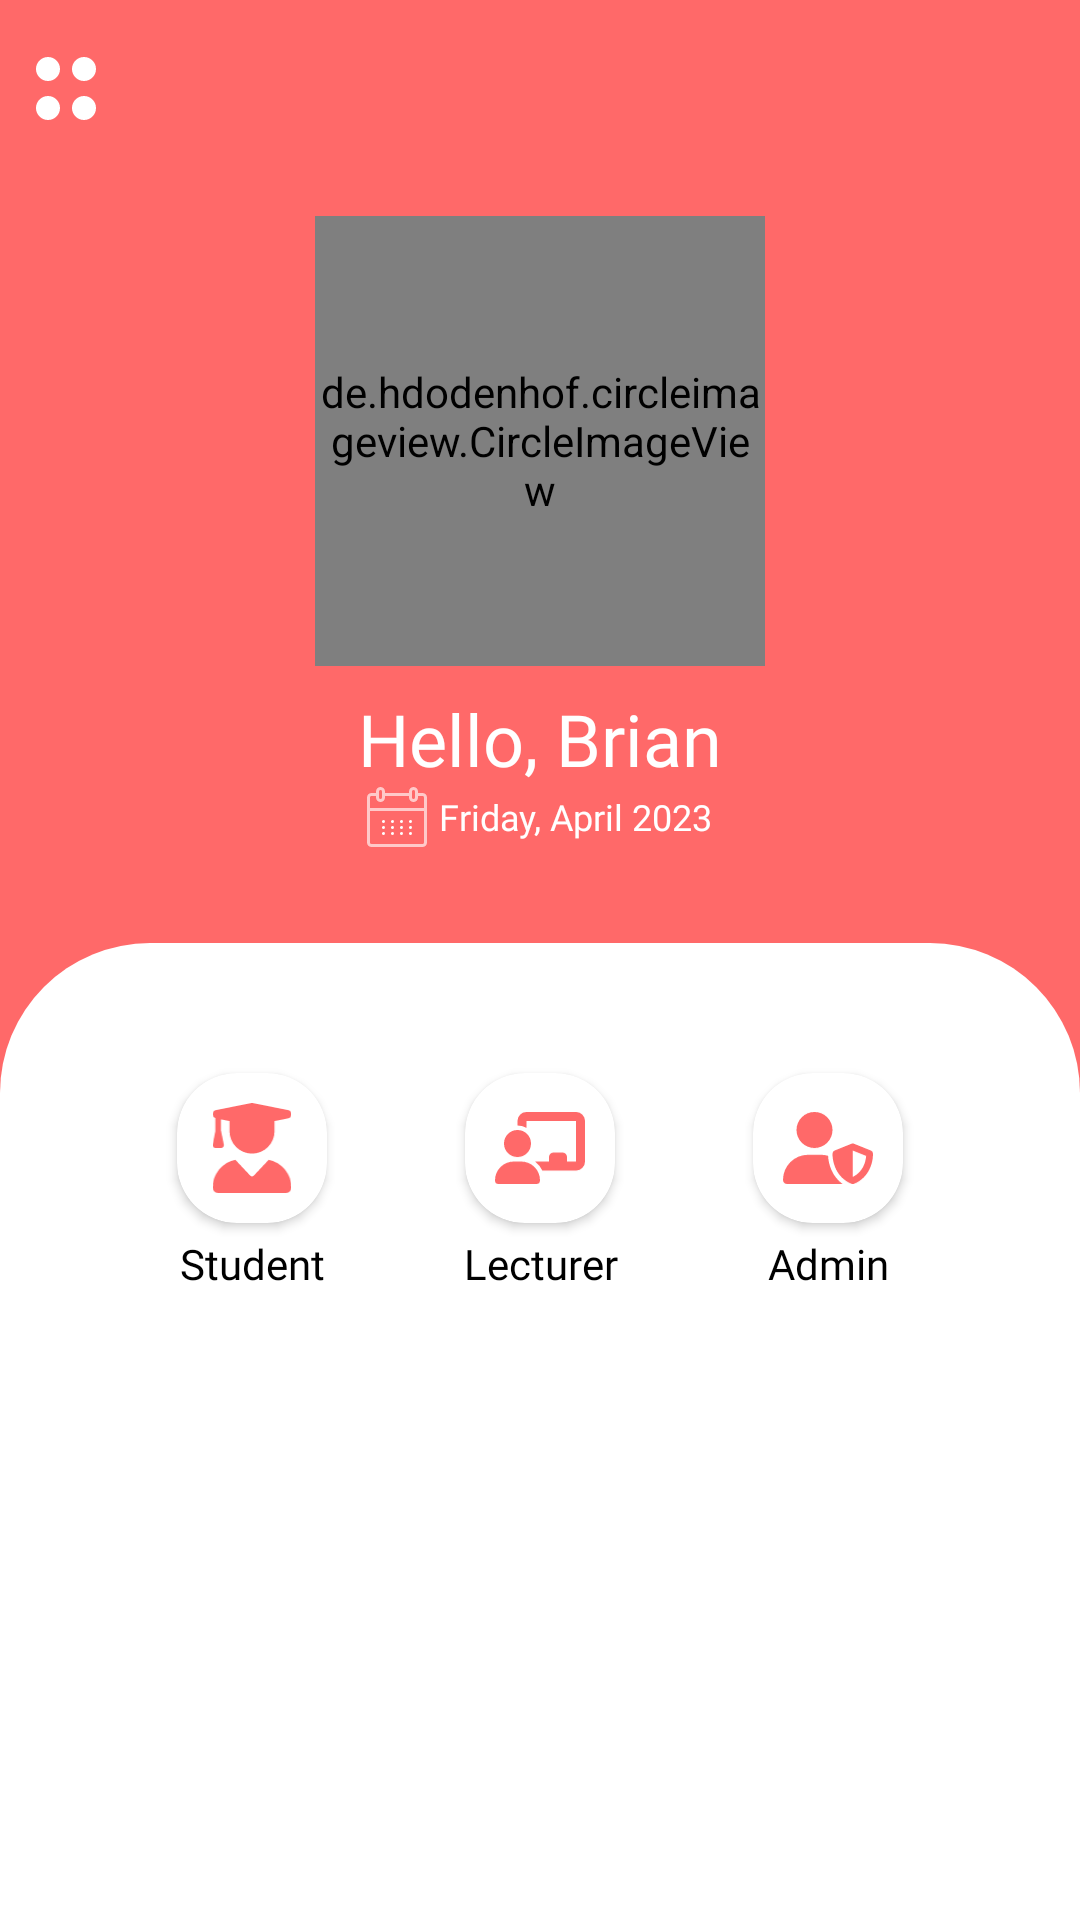

Where to tap for icons on this 1080x1920 app screen, as point (x, y):
calendar: point (397, 817)
chalkboard user: point (540, 1167)
menu: point (66, 88)
user graduate: point (248, 1163)
user shield: point (831, 1167)
